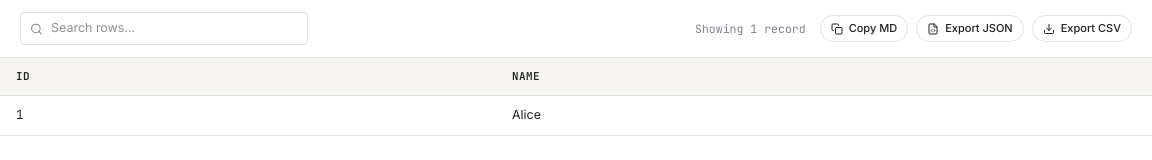
Test case: ResultsTable Component › copies table as Markdown format to clipboard
Step 1. Click the button "Copy MD" → (864, 29), box [820,16,908,42]
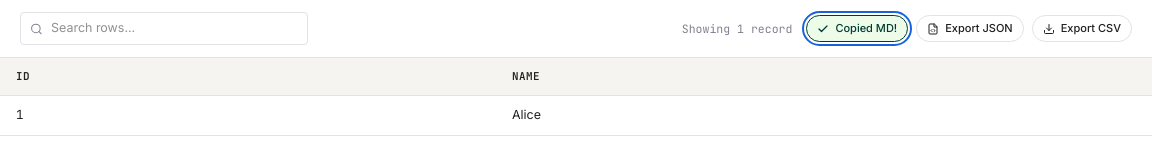
Expected: the text "Copied MD!" is shown, [835,20,897,37]
